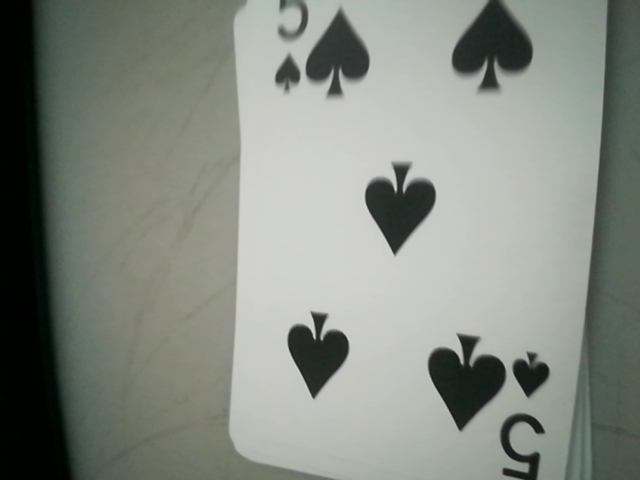ht 5: (492, 347, 556, 480)
